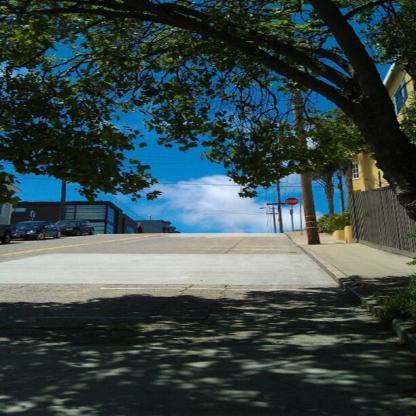car: (12, 218, 62, 241), (59, 217, 99, 235)
